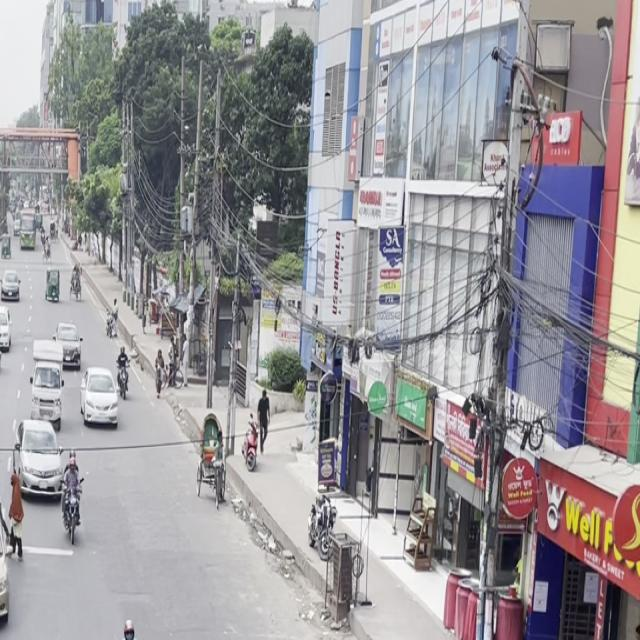car: (12, 409, 68, 508), (27, 342, 65, 428), (80, 360, 121, 435), (0, 496, 16, 636), (0, 308, 7, 380), (307, 639, 468, 640)
motorbike: (56, 446, 90, 550), (95, 597, 161, 640), (113, 341, 135, 401)
